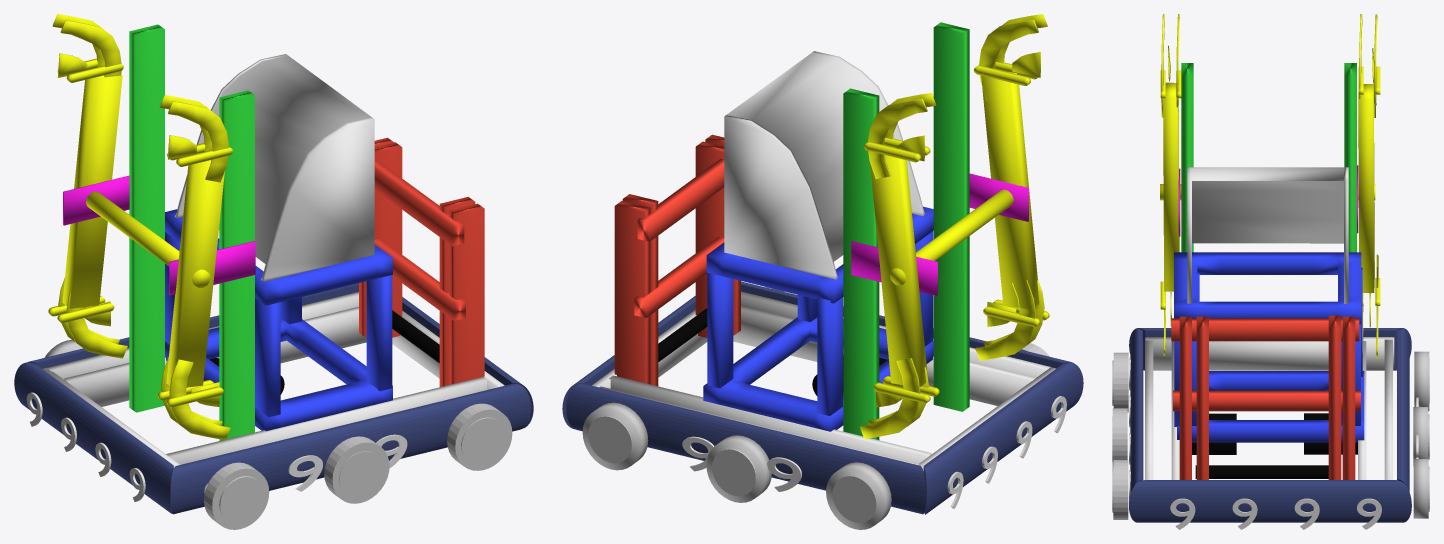
Rendered from Chassis.dae.
3 renders of one model, left to right at view 1: azimuth 30°, elevation 25°; view 2: azimuth 150°, elevation 25°; view 3: azimuth 270°, elevation 25°, orthographic. The views are drawn at different scales.
Visible parts, largest first — view 1: Chassis, Plane.003, Circle.005, Plane.004, Cube.007, Cube.004, Cube.016, Circle.003, Cube.019, Cube.015, Cube.018, Tire_MR (+9 smaller); view 2: Chassis, Plane.003, Circle.005, Plane.004, Cube.004, Cube.007, Cube.017, Circle.003, Cube.019, Cube.014, Cube.018, Tire_BL (+10 smaller); view 3: Chassis, Plane.004, Circle.005, Plane.003, Cube.019, Cube.018, Cube.015, Cube.017, Cube.014, Cube.016, Cube.007, Cube.004 (+10 smaller).
Boxes of the visible parts, x1=… form: Chassis: x1=14, y1=283, x2=533, y2=514; Plane.003: x1=48, y1=14, x2=232, y2=439; Circle.005: x1=175, y1=54, x2=374, y2=281; Plane.004: x1=165, y1=209, x2=392, y2=431; Cube.007: x1=129, y1=24, x2=164, y2=412; Cube.004: x1=219, y1=90, x2=254, y2=440; Cube.016: x1=449, y1=203, x2=484, y2=384; Circle.003: x1=63, y1=175, x2=255, y2=295; Cube.019: x1=374, y1=160, x2=464, y2=246; Cube.015: x1=374, y1=142, x2=402, y2=337; Cube.018: x1=374, y1=238, x2=465, y2=320; Tire_MR: x1=324, y1=436, x2=389, y2=503; Chassis: x1=562, y1=281, x2=1083, y2=514; Plane.003: x1=860, y1=14, x2=1049, y2=438; Circle.005: x1=724, y1=51, x2=925, y2=279; Plane.004: x1=703, y1=206, x2=933, y2=431; Cube.004: x1=933, y1=22, x2=969, y2=411; Cube.007: x1=843, y1=88, x2=879, y2=439; Cube.017: x1=614, y1=201, x2=650, y2=384; Circle.003: x1=851, y1=173, x2=1028, y2=295; Cube.019: x1=637, y1=158, x2=724, y2=241; Cube.014: x1=695, y1=141, x2=724, y2=337; Cube.018: x1=634, y1=237, x2=724, y2=317; Tire_BL: x1=826, y1=462, x2=891, y2=529; Chassis: x1=1129, y1=328, x2=1411, y2=522; Plane.004: x1=1174, y1=252, x2=1364, y2=442; Circle.005: x1=1187, y1=167, x2=1348, y2=303; Plane.003: x1=1160, y1=14, x2=1380, y2=358; Cube.019: x1=1171, y1=318, x2=1359, y2=341; Cube.018: x1=1173, y1=390, x2=1360, y2=411; Cube.015: x1=1328, y1=315, x2=1341, y2=479; Cube.017: x1=1342, y1=316, x2=1355, y2=479; Cube.014: x1=1196, y1=316, x2=1208, y2=479; Cube.016: x1=1179, y1=316, x2=1191, y2=479; Cube.007: x1=1344, y1=63, x2=1356, y2=252; Cube.004: x1=1181, y1=63, x2=1193, y2=252.
Bounding box in the file's own units: 2.33 × 1.91 × 2.53.
